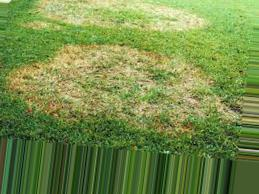patch: (65, 53, 172, 114), (54, 3, 190, 29)
